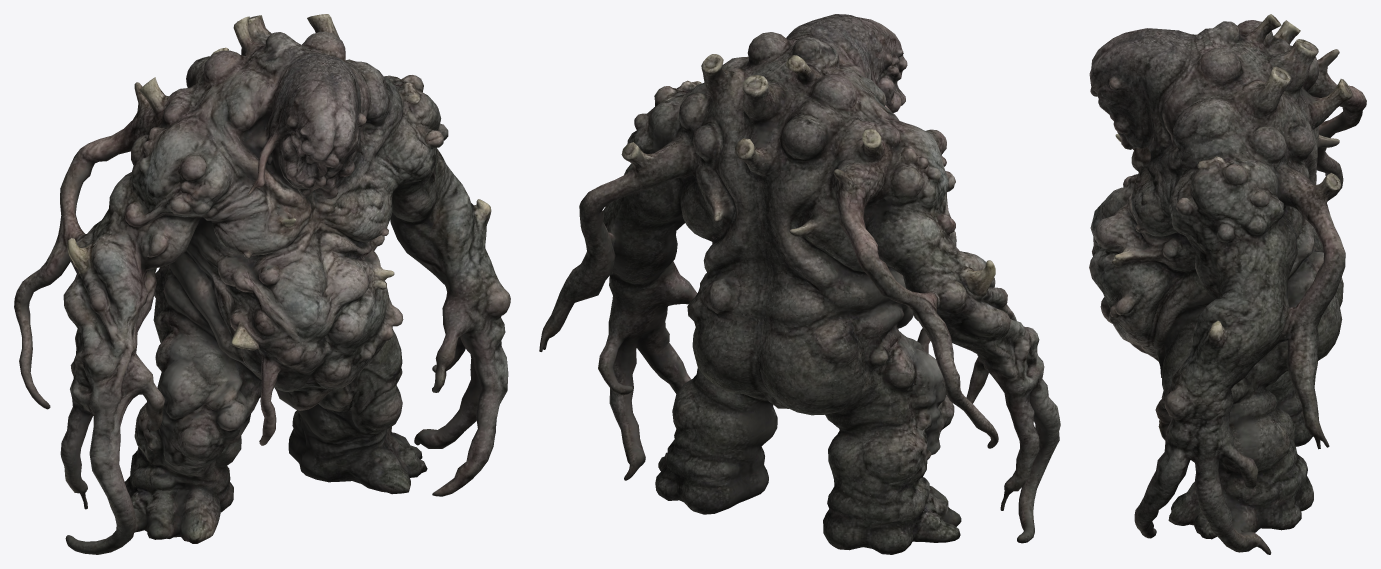
File: Modelo_Desconocido.glb
3 renders of one model, left to right at view 1: azimuth 30°, elevation 25°; view 2: azimuth 150°, elevation 25°; view 3: azimuth 270°, elevation 25°, orthographic. The views are drawn at different scales.
Parts seen in each view (by area): view 1: tripo_node_9449ea02-57ce-4f44-b539-2370892f5c8d; view 2: tripo_node_9449ea02-57ce-4f44-b539-2370892f5c8d; view 3: tripo_node_9449ea02-57ce-4f44-b539-2370892f5c8d.
Boxes of the visible parts, box(x1,y1,x2,y2) form: tripo_node_9449ea02-57ce-4f44-b539-2370892f5c8d: box(14, 14, 510, 554); tripo_node_9449ea02-57ce-4f44-b539-2370892f5c8d: box(539, 14, 1060, 554); tripo_node_9449ea02-57ce-4f44-b539-2370892f5c8d: box(1089, 14, 1366, 554).
Bounding box in the file's own units: 0.9902 × 1 × 0.5496.
1 material, 1 textured.
